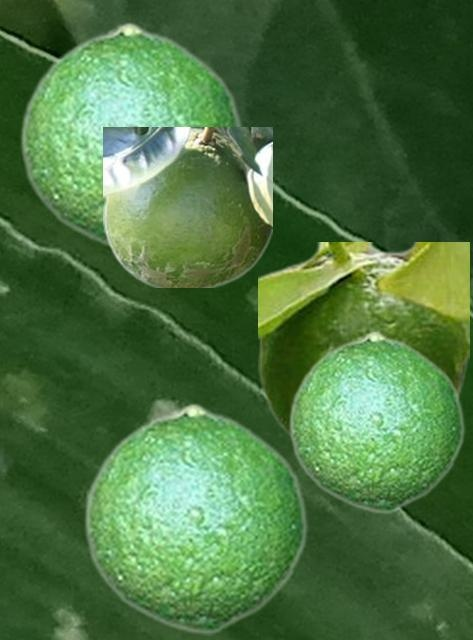dalandan: (82, 402, 307, 634), (18, 21, 242, 252), (258, 242, 468, 442), (287, 330, 464, 513), (103, 127, 271, 286)
